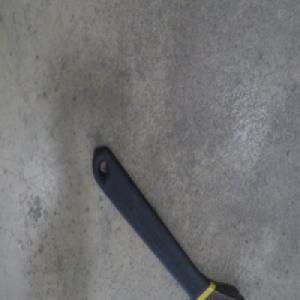AdjustableWrench: (90, 150, 245, 300)
